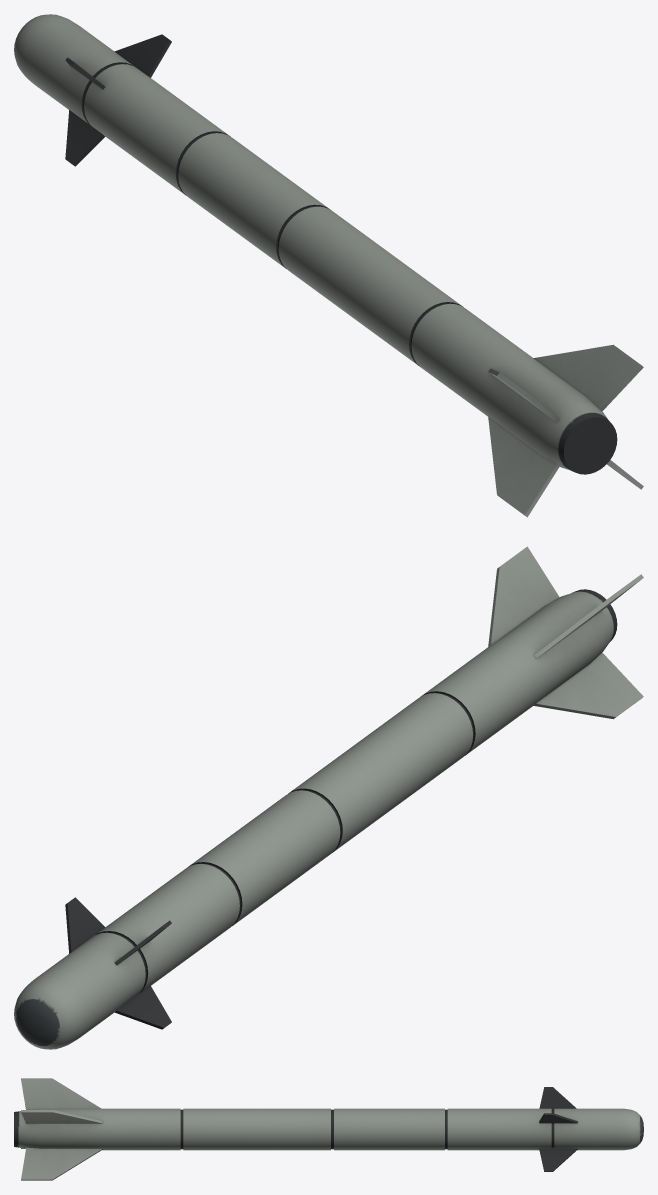
File: msl_strela1.glb
3 views of the same model, one above another, from view 1: azimuth 30°, elevation 25°; view 2: azimuth 150°, elevation 25°; view 3: azimuth 270°, elevation 25° (orthographic). The views are drawn at different scales.
Visible parts, largest first — view 1: M31_body, M31_fins, M31_canards; view 2: M31_body, M31_fins, M31_canards; view 3: M31_body, M31_fins, M31_canards.
Part boxes in pixels (<box>): M31_body: <box>14,14,617,474</box>; M31_fins: <box>488,344,643,517</box>; M31_canards: <box>65,34,171,166</box>; M31_body: <box>14,589,617,1049</box>; M31_fins: <box>488,546,643,719</box>; M31_canards: <box>65,897,171,1029</box>; M31_body: <box>14,1108,643,1150</box>; M31_fins: <box>21,1078,102,1180</box>; M31_canards: <box>539,1087,577,1171</box>.
Size of the model in its own units: 0.2227 by 0.2227 by 1.8.
1 material, 1 textured.
